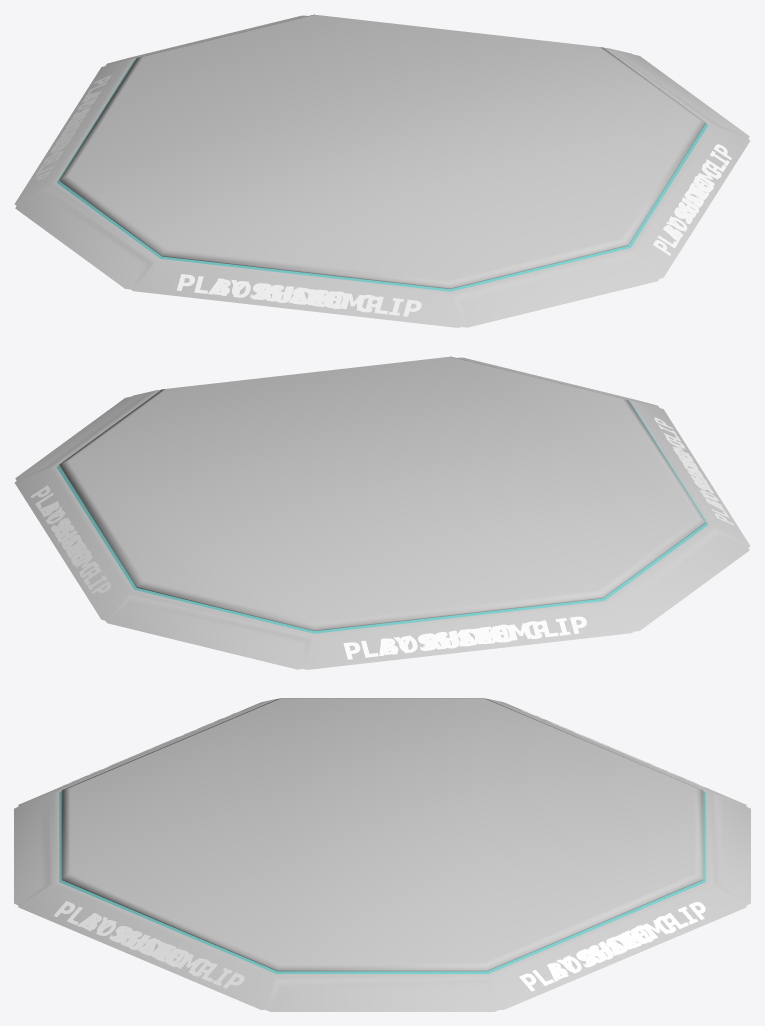
The model's file is EffectsPadSmall.fbx.
3 views of the same model, one above another, from view 1: azimuth 30°, elevation 25°; view 2: azimuth 150°, elevation 25°; view 3: azimuth 270°, elevation 25° (orthographic). The views are drawn at different scales.
Parts seen in each view (by area): view 1: EffectsPadSmall, EffectsLabel_AudioClip, EffectsLabel_BossStomp; view 2: EffectsPadSmall, EffectsLabel_AudioClip, EffectsLabel_BossStomp; view 3: EffectsPadSmall, EffectsLabel_AudioClip, EffectsLabel_BossStomp.
Boxes of the visible parts, x1=… form: EffectsPadSmall: x1=14, y1=14, x2=750, y2=327; EffectsLabel_AudioClip: x1=33, y1=75, x2=731, y2=316; EffectsLabel_BossStomp: x1=47, y1=93, x2=718, y2=310; EffectsPadSmall: x1=14, y1=356, x2=750, y2=669; EffectsLabel_AudioClip: x1=30, y1=417, x2=733, y2=659; EffectsLabel_BossStomp: x1=41, y1=435, x2=723, y2=654; EffectsPadSmall: x1=14, y1=698, x2=750, y2=1011; EffectsLabel_AudioClip: x1=53, y1=710, x2=708, y2=991; EffectsLabel_BossStomp: x1=82, y1=723, x2=680, y2=979.
Size of the model in its own units: 4.88 by 0.1857 by 4.88.
